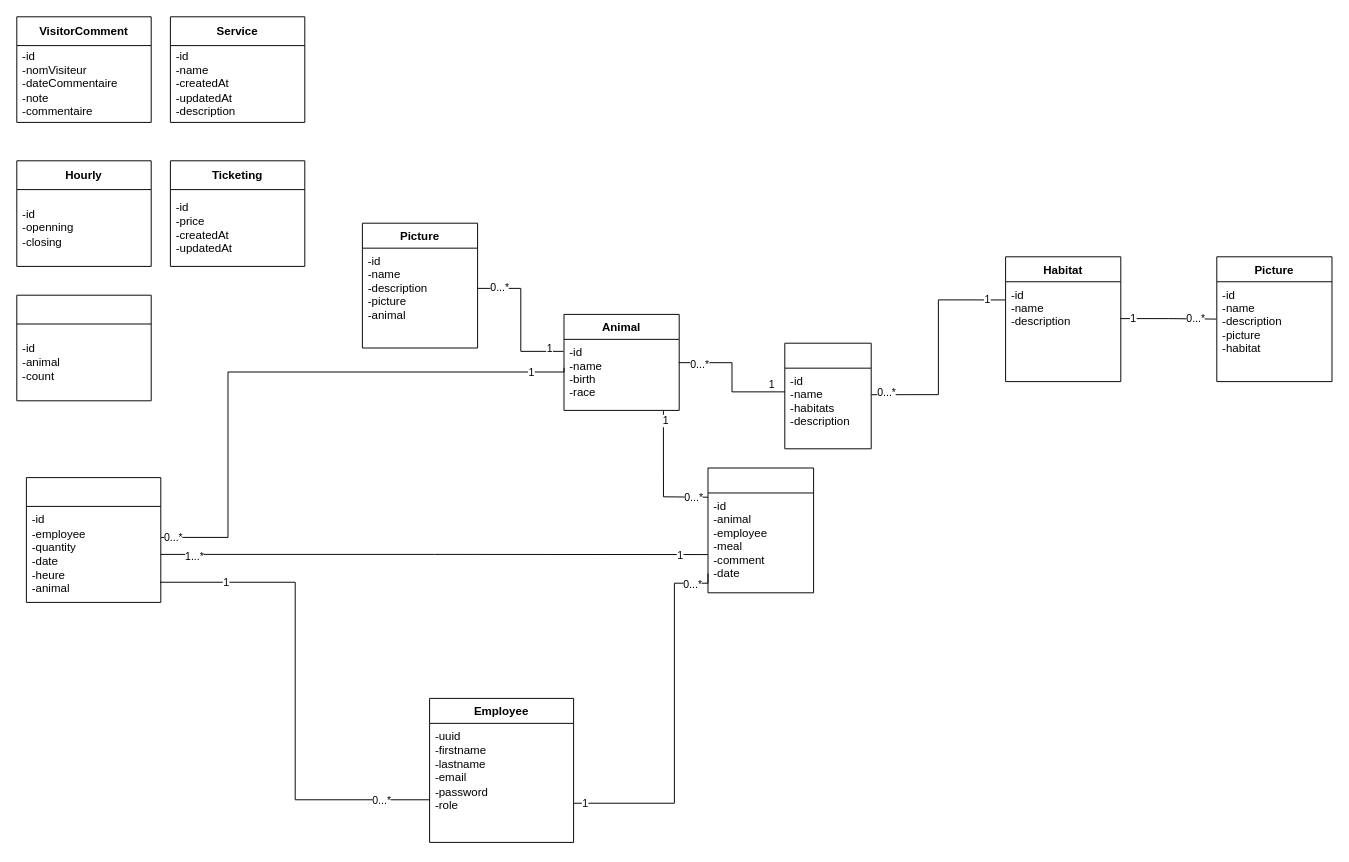
Image size: 1349x862. Some labels were removed from this diagram. Each missing label, with the box of its shape:
Count (non relationnel): (16, 294, 151, 401)
Meal: (25, 477, 161, 602)
Race: (784, 342, 871, 449)
VeterinaryReport: (707, 467, 814, 593)
